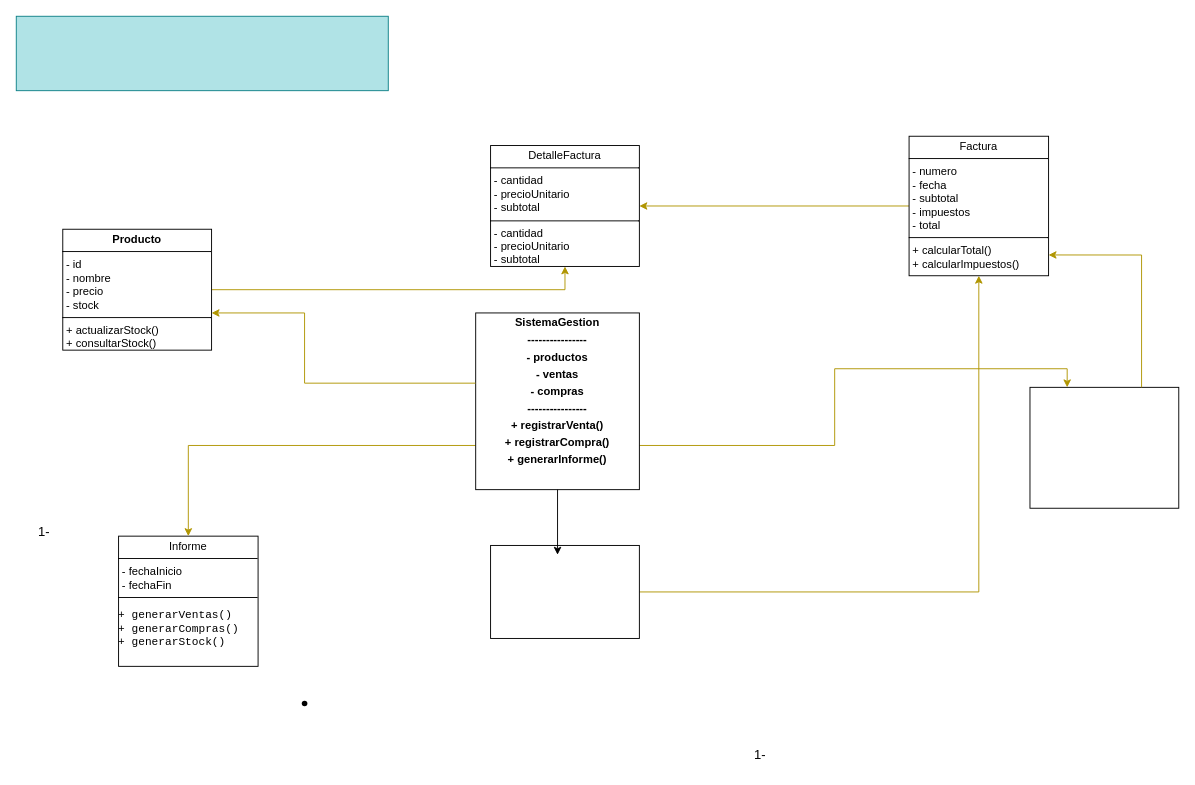
Some shapes in this 1195 by 785 pixel diagram are drawn without their labels. Here are the shapes that lost their labels. From the top down, the centre of each, then its label:
the point at 201,53: Diagrama de Clases - Sistema de Ventas, Compras y Stock
the point at 1104,447: Compra - id - fecha + registrar()
the point at 564,591: Venta - id - fecha + registrar()
